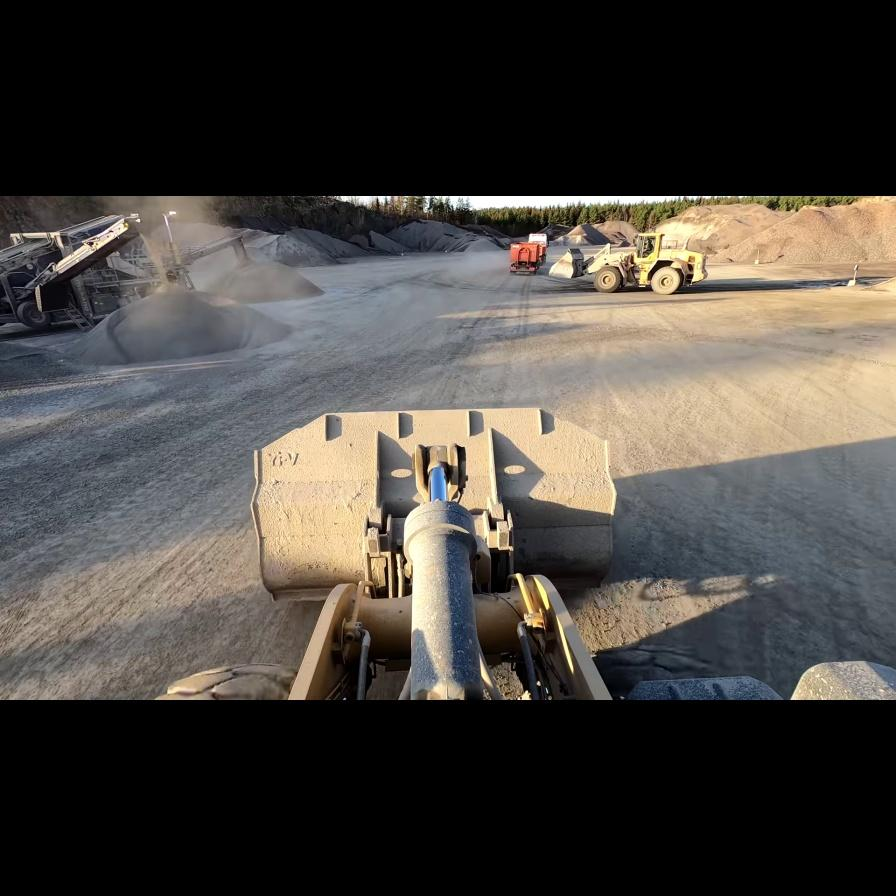anchor: (413, 443, 463, 502)
pile of gravel: (72, 289, 296, 368), (717, 199, 894, 266), (653, 203, 785, 260), (193, 257, 341, 303), (260, 225, 378, 264), (384, 218, 501, 255), (561, 220, 634, 246)
